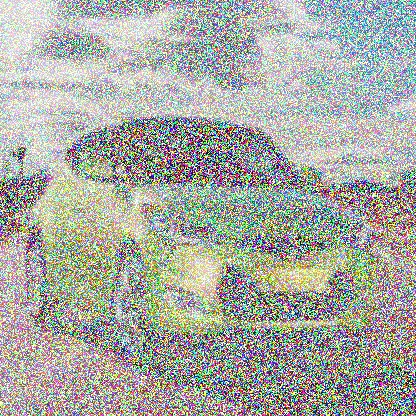Vehicle: (23, 109, 378, 364)
